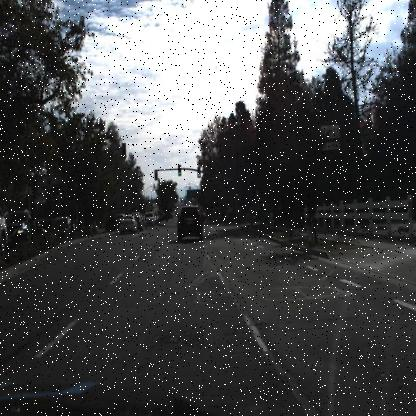car: (0, 205, 37, 249), (173, 200, 207, 245), (16, 217, 48, 240), (0, 204, 16, 247), (118, 211, 139, 236), (52, 215, 76, 234), (119, 212, 137, 237), (132, 209, 143, 234), (142, 210, 156, 227)
trafficLight-Green: (177, 164, 182, 176), (235, 186, 239, 200), (197, 166, 201, 179)
trafficLight-RedLeft: (154, 168, 158, 181)
